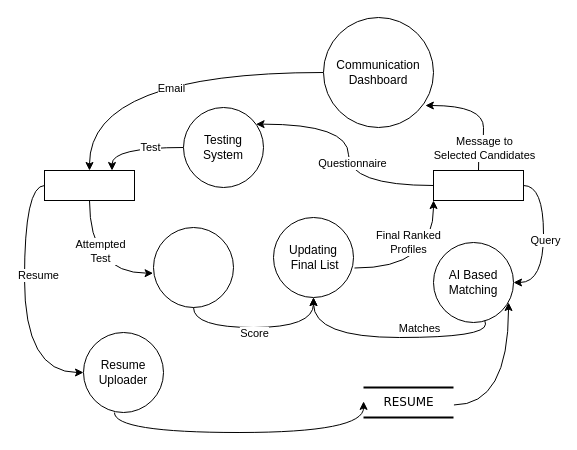
Some shapes in this 577 by 450 pixel diagram are drawn without their labels. Each missing label, with the centre of its shape:
Candidate: the point at 89,185
Recruiter: the point at 478,185
Score Calculator: the point at 193,267
